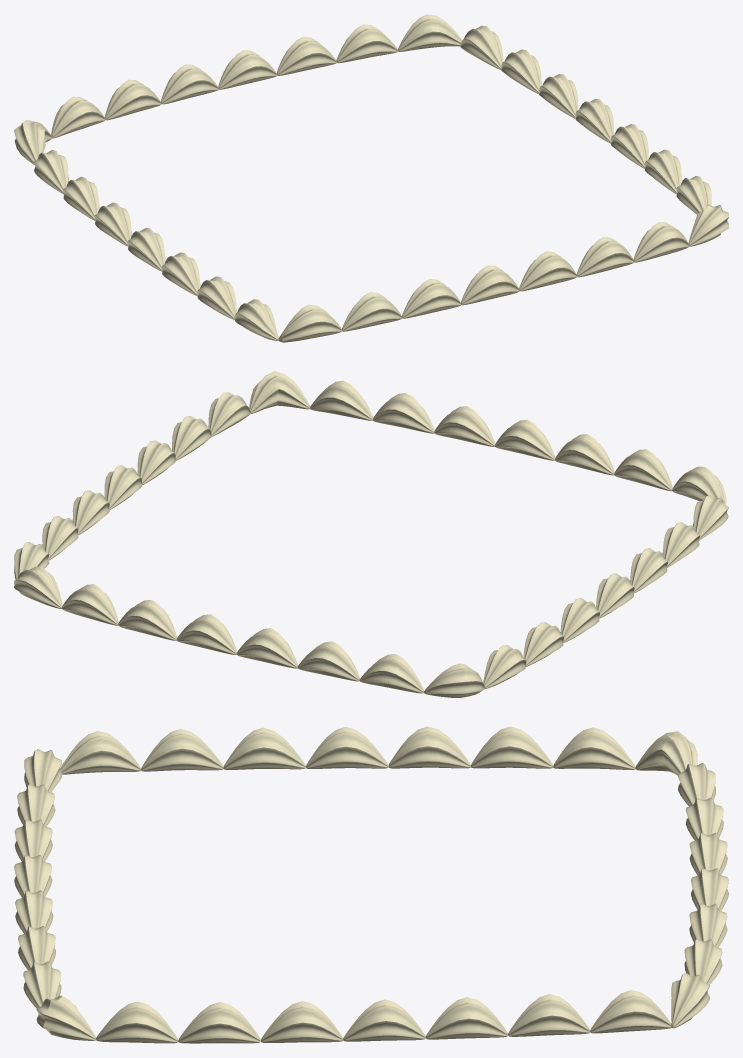
The model's file is DecoGlazeCream.glb.
3 renders of one model, top to bottom at view 1: azimuth 30°, elevation 25°; view 2: azimuth 150°, elevation 25°; view 3: azimuth 270°, elevation 25°, orthographic. The views are drawn at different scales.
Visible parts, largest first — view 1: Star.029; view 2: Star.029; view 3: Star.029.
Part boxes in pixels (left/top/right/bottom): Star.029: left=14, top=14, right=728, bottom=342; Star.029: left=14, top=371, right=728, bottom=697; Star.029: left=14, top=726, right=728, bottom=1043.
Size of the model in its own units: 1.86 by 0.1407 by 1.91.
